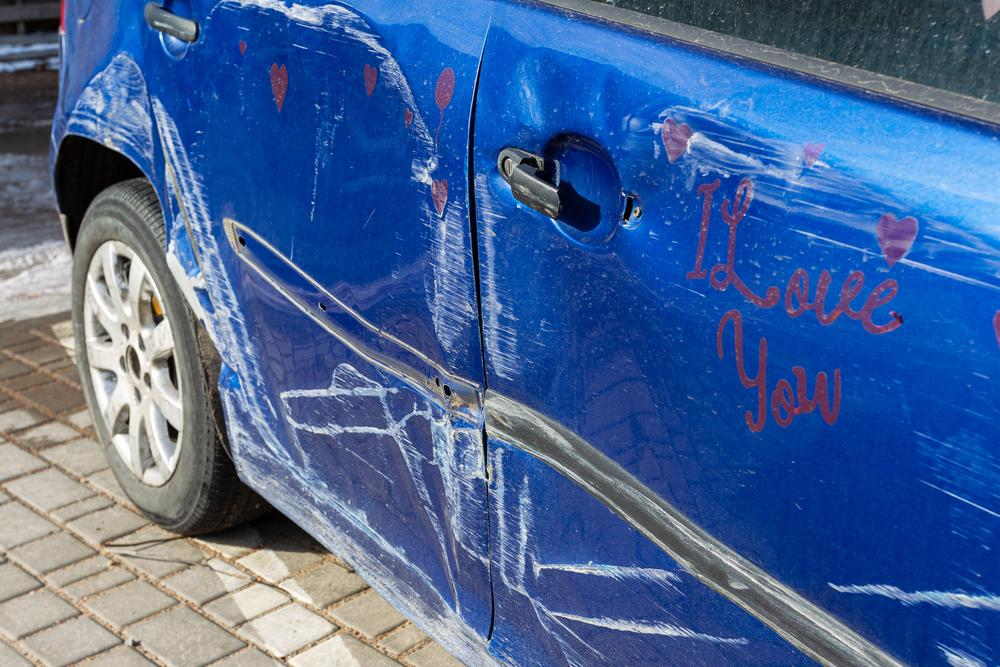dent: (204, 3, 460, 609), (519, 52, 573, 137), (595, 77, 625, 150)
scratch: (67, 60, 507, 667), (484, 389, 907, 667), (648, 92, 1000, 295), (486, 448, 764, 667), (836, 373, 1000, 667), (474, 173, 518, 381), (442, 419, 493, 573), (431, 199, 481, 353)
